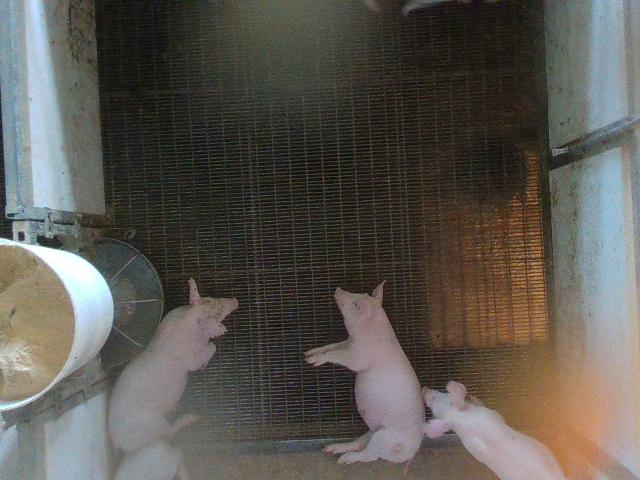pig-1: (305, 282, 425, 464)
